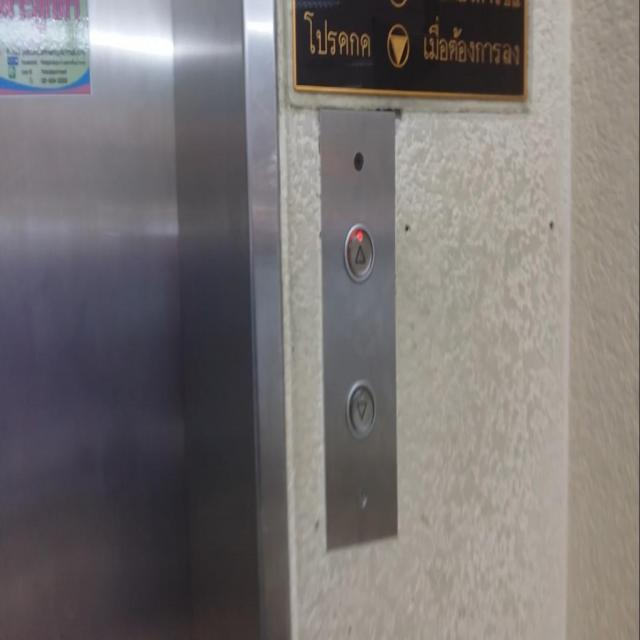down: (345, 378, 377, 440)
up: (343, 224, 374, 284)
